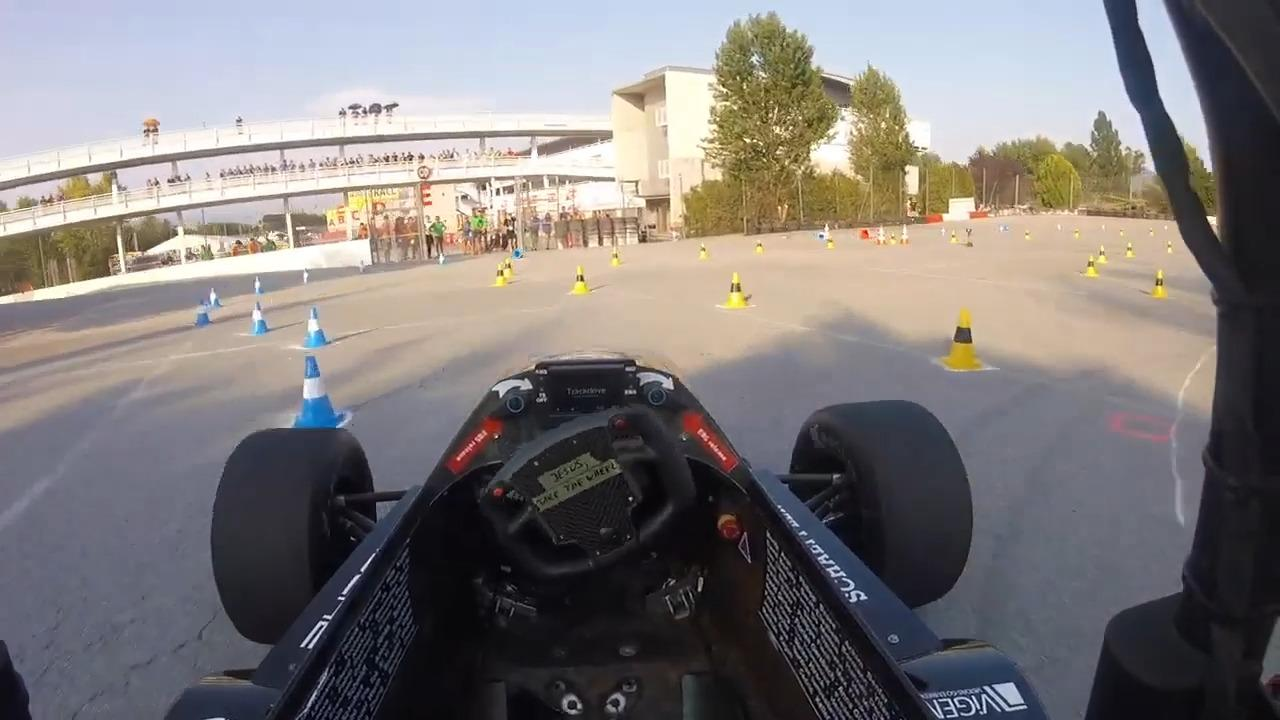blue_cone: (279, 357, 354, 451), (294, 294, 333, 348), (192, 279, 229, 329), (243, 302, 275, 337)
yellow_cone: (711, 263, 761, 319), (937, 318, 984, 371), (562, 266, 603, 293), (488, 258, 517, 282)
